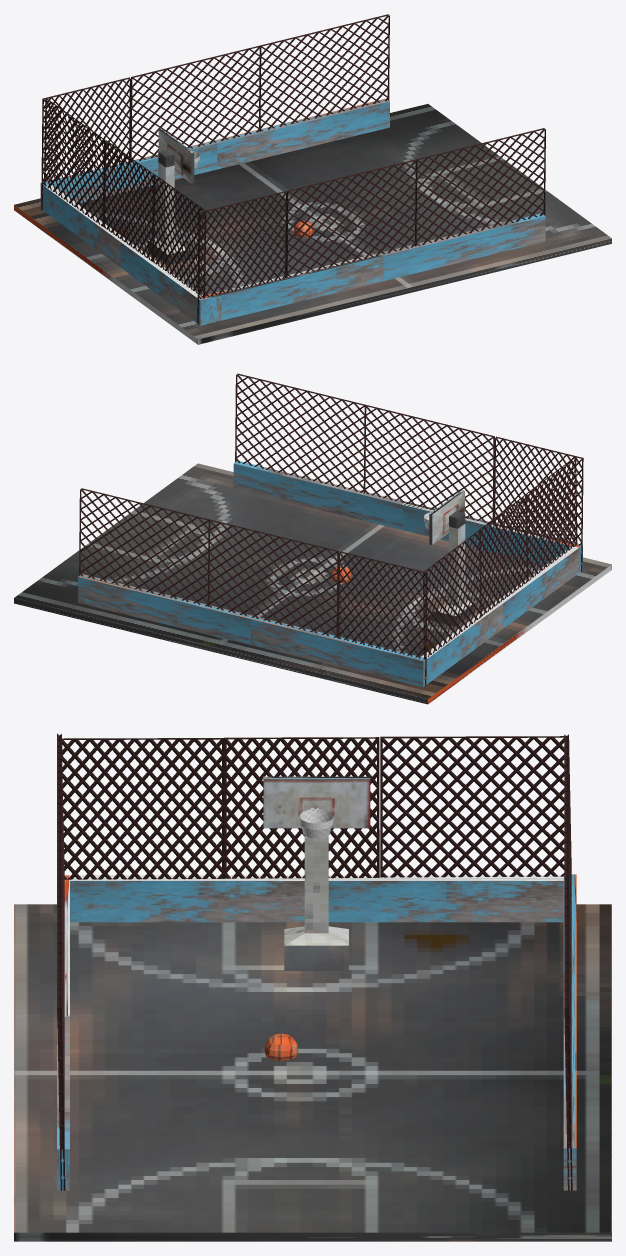
Rendered from basket ball new.fbx.
3 views of the same model, one above another, from view 1: azimuth 30°, elevation 25°; view 2: azimuth 150°, elevation 25°; view 3: azimuth 270°, elevation 25° (orthographic). The views are drawn at different scales.
Visible parts, largest first — view 1: Cube, Plane.002, Cube.005; view 2: Cube, Plane.002, Cube.005; view 3: Cube, Plane.002, Cube.005, Cylinder, Cube.007.
Boxes of the visible parts, x1,y1,x2,y2 form: Cube: (14,104,611,344); Plane.002: (41,14,545,324); Cube.005: (40,98,545,325); Cube: (14,463,611,704); Plane.002: (79,373,583,685); Cube.005: (78,461,582,686); Cube: (14,904,611,1241); Plane.002: (57,733,572,1190); Cube.005: (57,776,576,1190); Cylinder: (299,809,333,838); Cube.007: (264,1033,298,1060).
Bounding box in the file's own units: 2410 × 691 × 1854.
7 materials, 6 textured.
